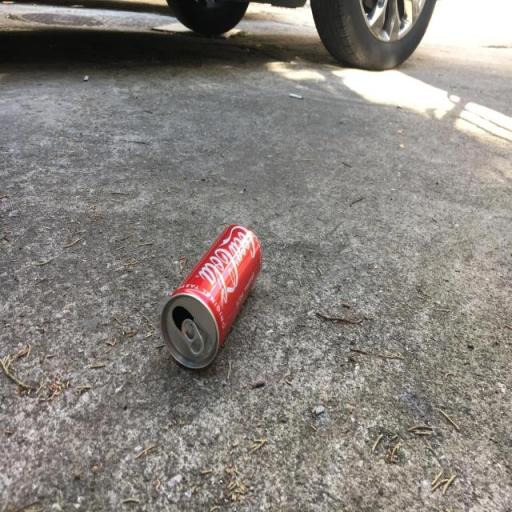metal: (152, 216, 268, 376)
